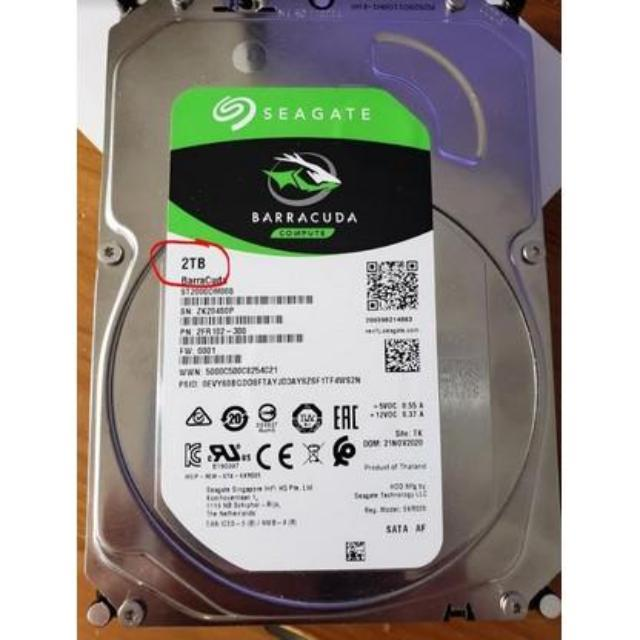DISK: (86, 4, 560, 618)
